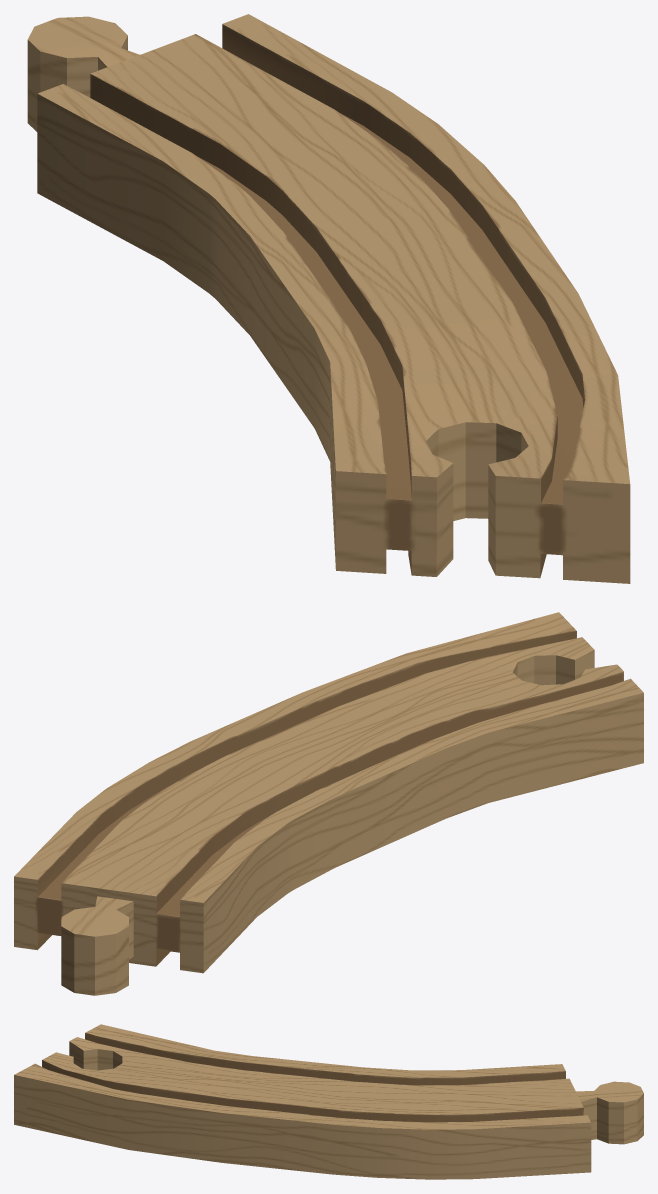
Rendered from TrainTrack.fbx.
3 renders of one model, top to bottom at view 1: azimuth 30°, elevation 25°; view 2: azimuth 150°, elevation 25°; view 3: azimuth 270°, elevation 25°, orthographic. The views are drawn at different scales.
Visible parts, largest first — view 1: TrainTrack; view 2: TrainTrack; view 3: TrainTrack.
Part boxes in pixels (x1=…): TrainTrack: x1=27, y1=14, x2=630, y2=583; TrainTrack: x1=14, y1=612, x2=643, y2=995; TrainTrack: x1=14, y1=1024, x2=643, y2=1179.
Size of the model in its own units: 143 by 31.64 by 361.
